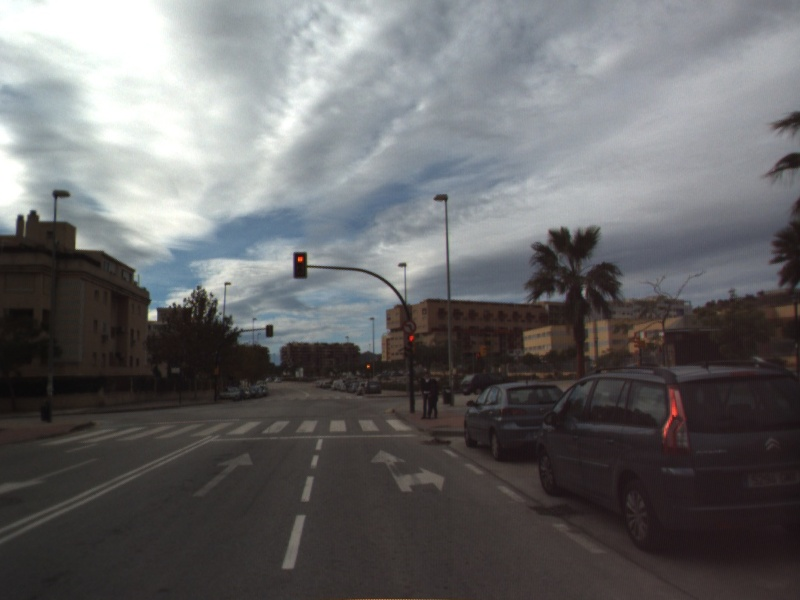STRAIGHT: (190, 450, 255, 499)
STRAIGHT_RIGHT: (368, 447, 447, 494)
